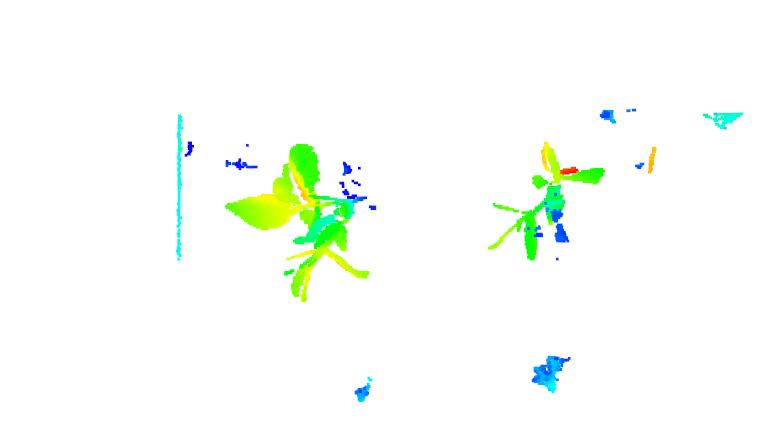mungbean: (222, 141, 374, 302), (484, 138, 606, 259)
